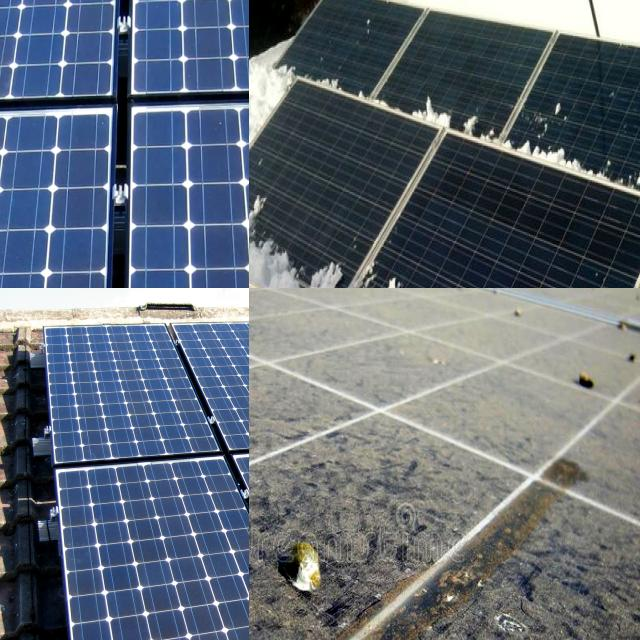bird: (261, 535, 348, 608), (441, 550, 499, 606), (574, 348, 610, 406), (249, 599, 271, 630)
crack: (32, 452, 249, 640), (34, 313, 234, 476), (171, 310, 249, 470), (0, 188, 38, 251), (0, 189, 41, 244), (0, 189, 37, 240), (40, 271, 117, 288), (0, 199, 31, 240)
panel: (249, 179, 341, 288), (521, 124, 640, 205), (388, 80, 517, 148), (282, 46, 373, 116)
